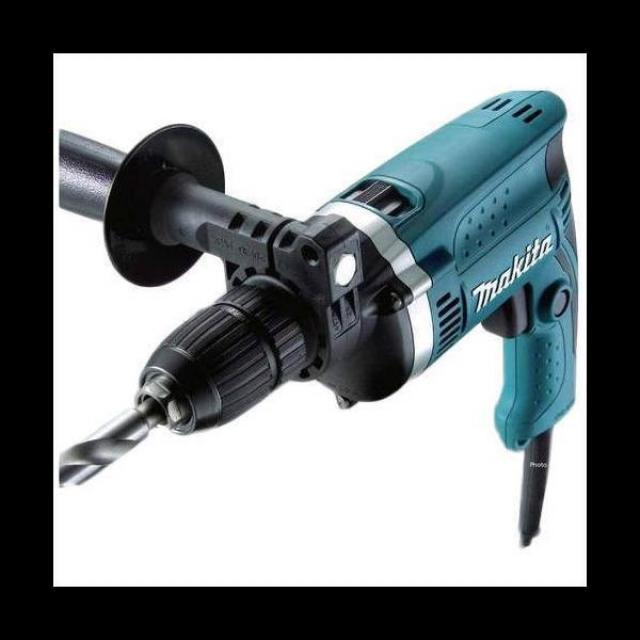drill: (59, 88, 580, 547), (61, 397, 167, 487)
